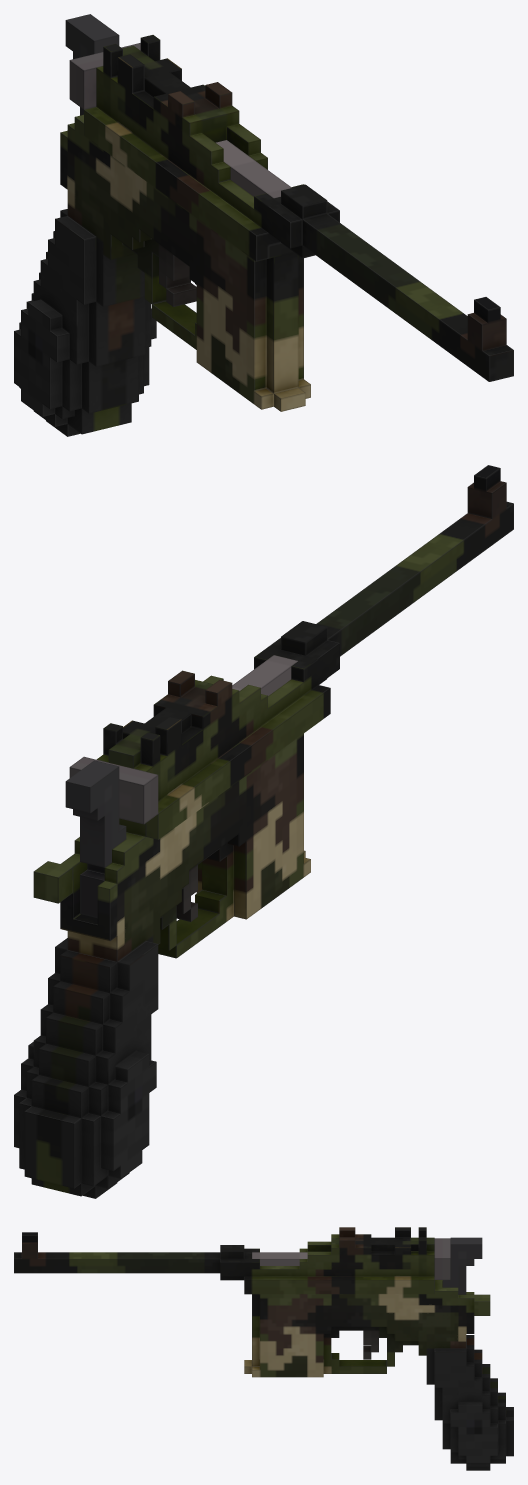
Rendered from MAUSER_MILITARY.glb.
3 views of the same model, one above another, from view 1: azimuth 30°, elevation 25°; view 2: azimuth 150°, elevation 25°; view 3: azimuth 270°, elevation 25° (orthographic). The views are drawn at different scales.
Parts seen in each view (by area): view 1: MAUSER_C96_BODY_P1, MAUSER_C96_BODY_P2, MAUSER_C96_BOLT, MAUSER_C96_TRIGGER; view 2: MAUSER_C96_BODY_P1, MAUSER_C96_BODY_P2, MAUSER_C96_TRIGGER, MAUSER_C96_BOLT; view 3: MAUSER_C96_BODY_P1, MAUSER_C96_BODY_P2, MAUSER_C96_TRIGGER, MAUSER_C96_BOLT.
Part boxes in pixels (x1=…): MAUSER_C96_BODY_P1: x1=14, y1=114, x2=310, y2=436; MAUSER_C96_BODY_P2: x1=84, y1=35, x2=513, y2=381; MAUSER_C96_BOLT: x1=69, y1=43, x2=291, y2=198; MAUSER_C96_TRIGGER: x1=65, y1=14, x2=119, y2=115; MAUSER_C96_BODY_P1: x1=14, y1=733, x2=310, y2=1198; MAUSER_C96_BODY_P2: x1=96, y1=465, x2=513, y2=839; MAUSER_C96_TRIGGER: x1=65, y1=760, x2=126, y2=918; MAUSER_C96_BOLT: x1=69, y1=655, x2=297, y2=824; MAUSER_C96_BODY_P1: x1=244, y1=1280, x2=513, y2=1470; MAUSER_C96_BODY_P2: x1=14, y1=1227, x2=434, y2=1294; MAUSER_C96_TRIGGER: x1=442, y1=1237, x2=482, y2=1294; MAUSER_C96_BOLT: x1=252, y1=1238, x2=450, y2=1279.
Size of the model in its own units: 0.0788 by 0.315 by 0.6201.
Materials: 1 (1 with a texture image).
